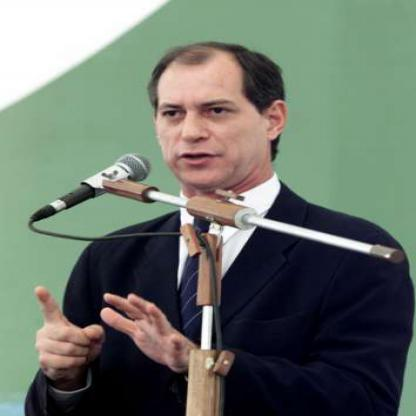face: (152, 45, 271, 192)
